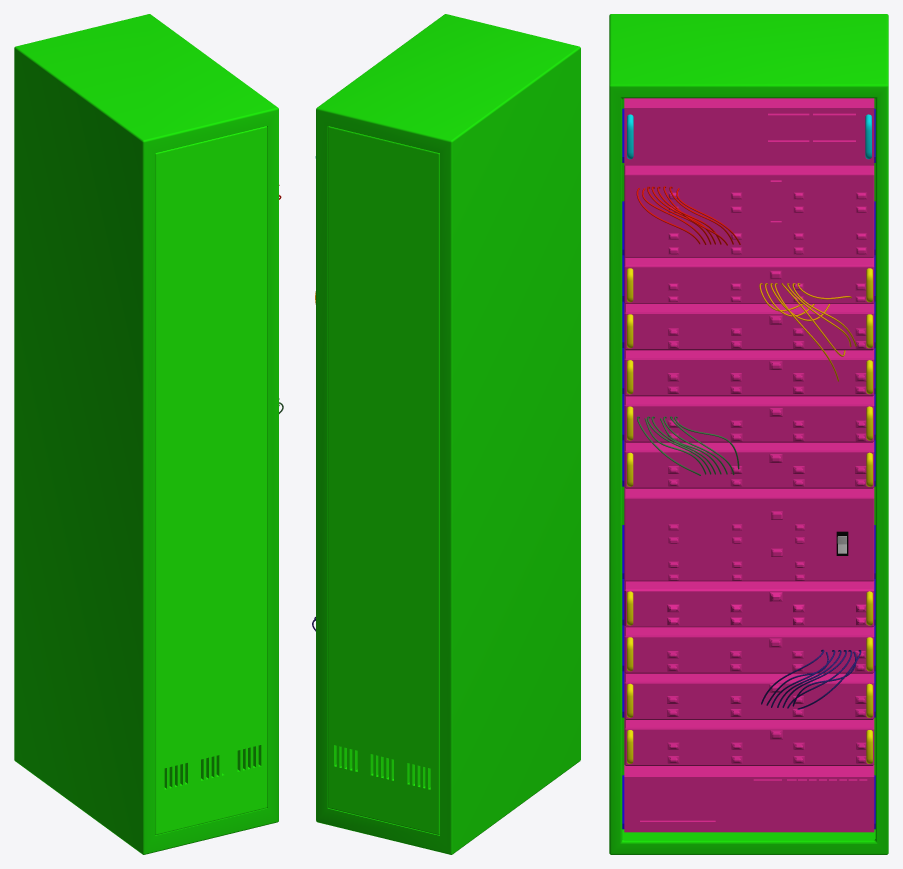
Rendered from Server_Full.fbx.
3 views of the same model, side by side, from view 1: azimuth 30°, elevation 25°; view 2: azimuth 150°, elevation 25°; view 3: azimuth 270°, elevation 25° (orthographic). The views are drawn at different scales.
Parts seen in each view (by area): view 1: Cube.063, Cube.059; view 2: Cube.063, Cube.059; view 3: Cube.063, 2u_nas1.001, ups.002, misc1.002, misc2.042, 1u_server4.001, 1u_server7.001, 1u_server1.001, 1u_server3.001, 1u_server6.001, 1u_server8.001, 1u_server5.001 (+5 smaller).
Boxes of the visible parts, box(x1,y1,x2,y2) form: Cube.063: box(14, 14, 278, 854); Cube.059: box(155, 126, 267, 834); Cube.063: box(316, 14, 580, 854); Cube.059: box(328, 126, 439, 834); Cube.063: box(609, 14, 888, 854); 2u_nas1.001: box(624, 487, 874, 581); ups.002: box(624, 165, 874, 257); misc1.002: box(624, 765, 874, 832); misc2.042: box(624, 98, 874, 165); 1u_server4.001: box(624, 580, 874, 627); 1u_server7.001: box(624, 349, 874, 396); 1u_server1.001: box(624, 719, 874, 765); 1u_server3.001: box(624, 626, 874, 673); 1u_server6.001: box(624, 395, 874, 442); 1u_server8.001: box(624, 303, 874, 350); 1u_server5.001: box(624, 441, 874, 488).
Bounding box in the file's own units: 76.01 × 316 × 104.
